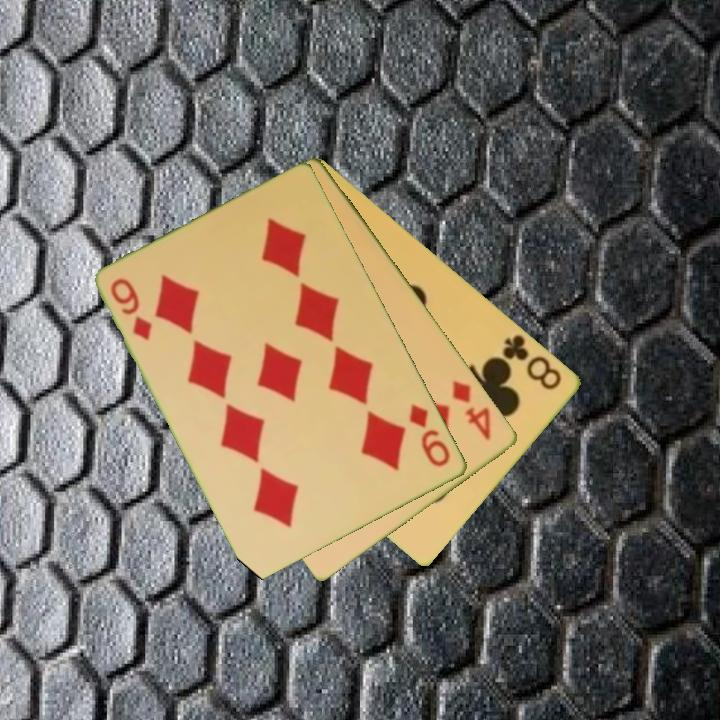4d: (449, 377, 495, 443)
8c: (499, 330, 565, 393)
9d: (107, 274, 156, 344), (406, 400, 454, 470)
